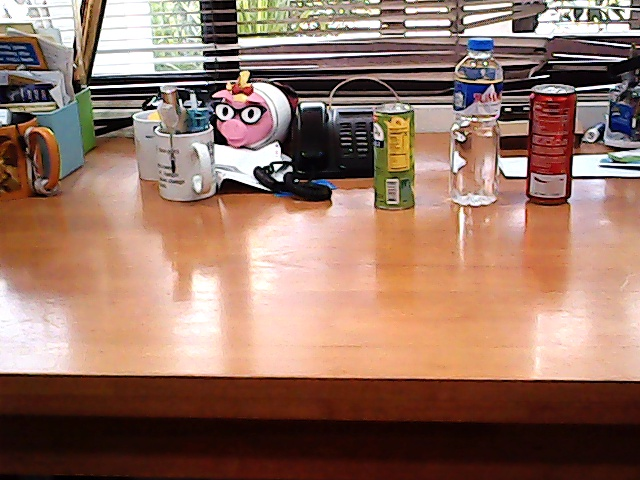Cola: (524, 81, 578, 207)
Pine Juice: (368, 98, 420, 211)
Summit Water: (443, 38, 513, 210)
